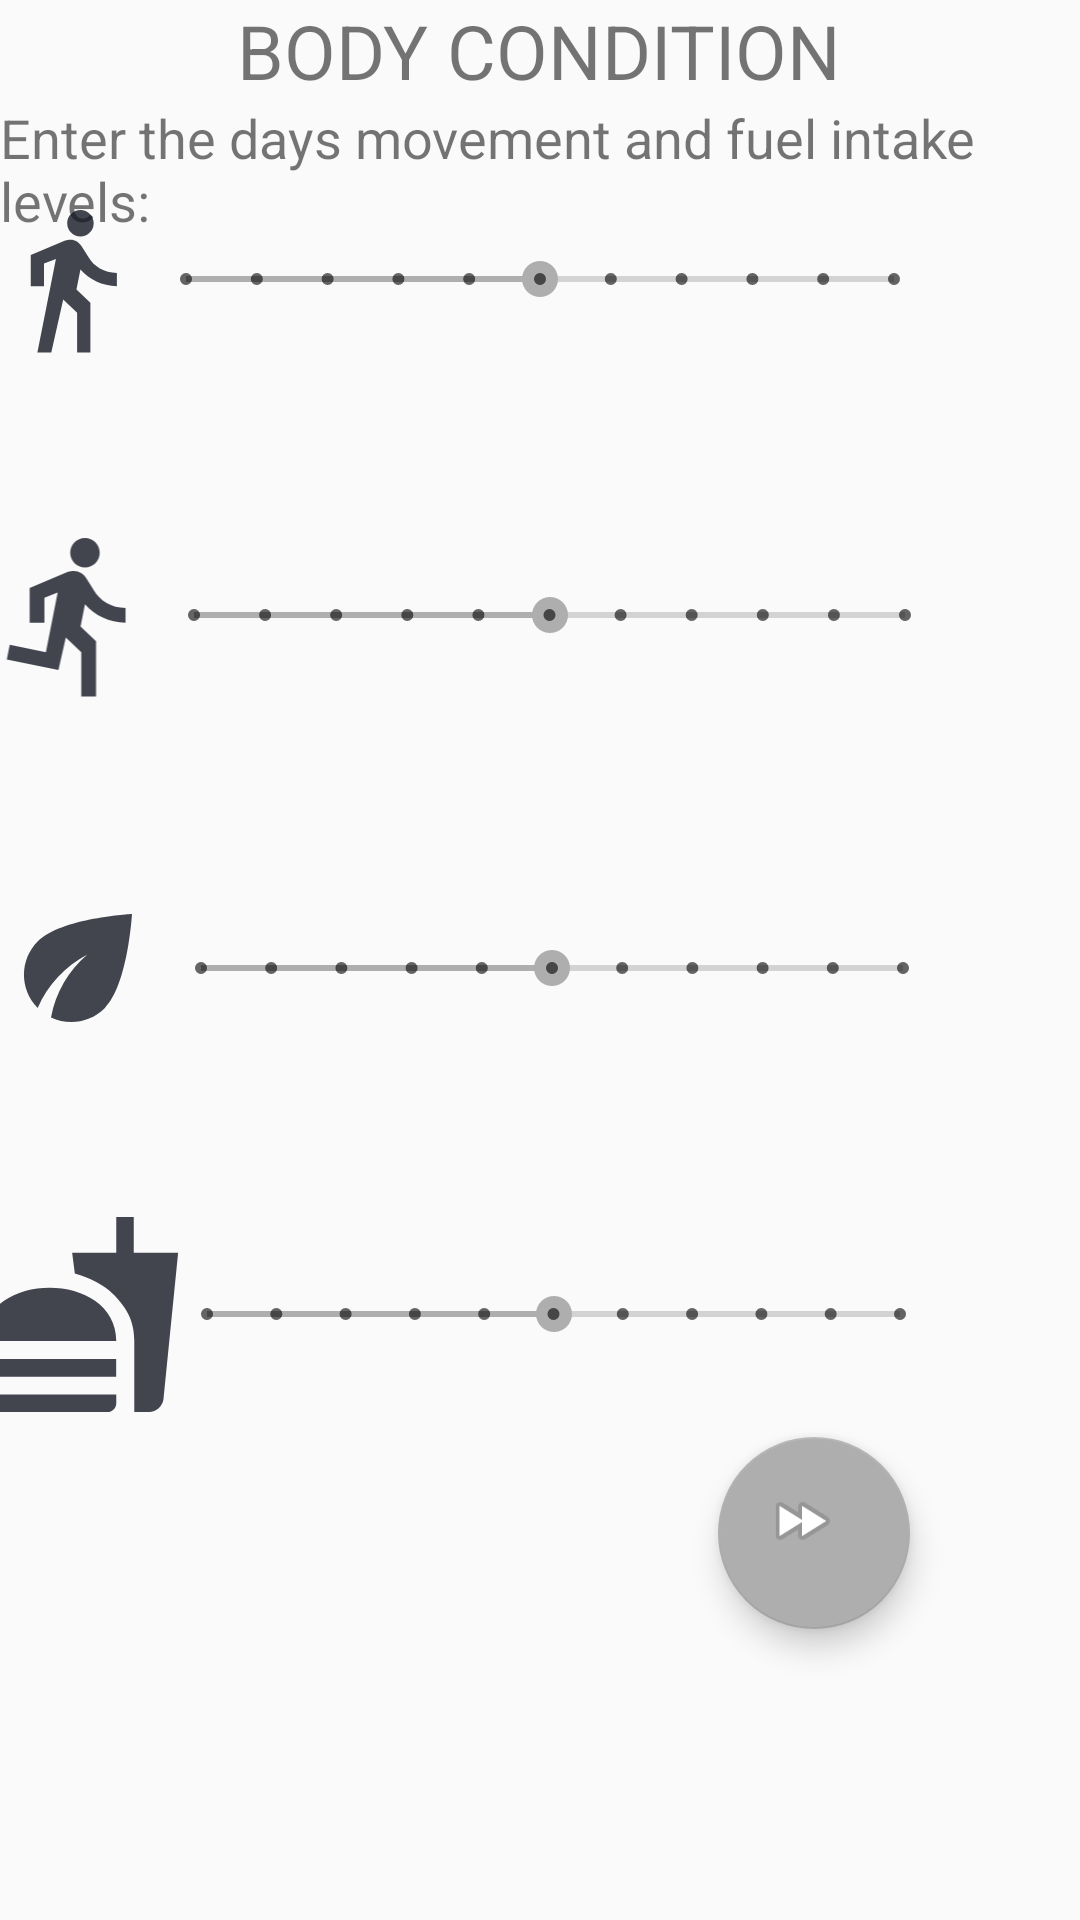

Screen size 1080*1920. Icon name, then its center in pixels as [x,y]:
goodfood: [78,968]
